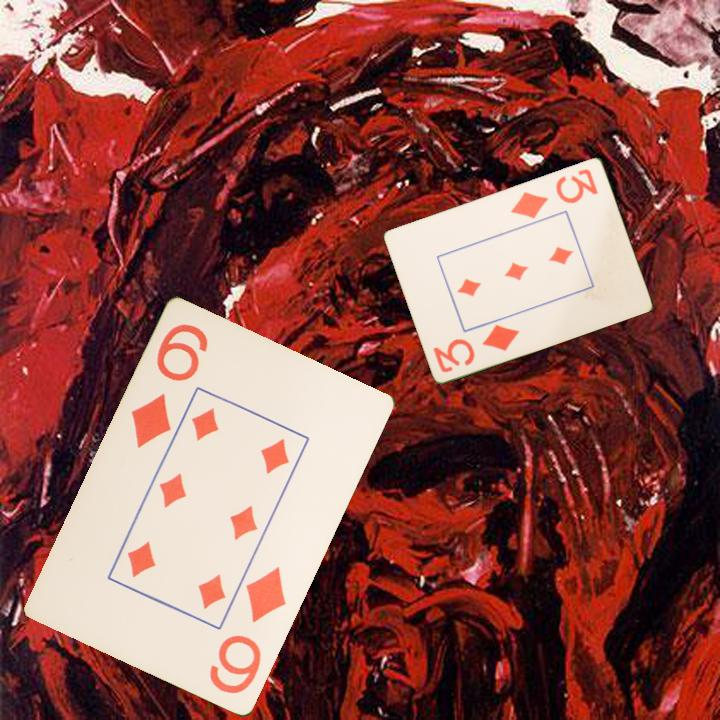3d: (507, 165, 601, 221), (430, 320, 523, 375)
6d: (205, 563, 290, 698), (127, 320, 211, 452)
